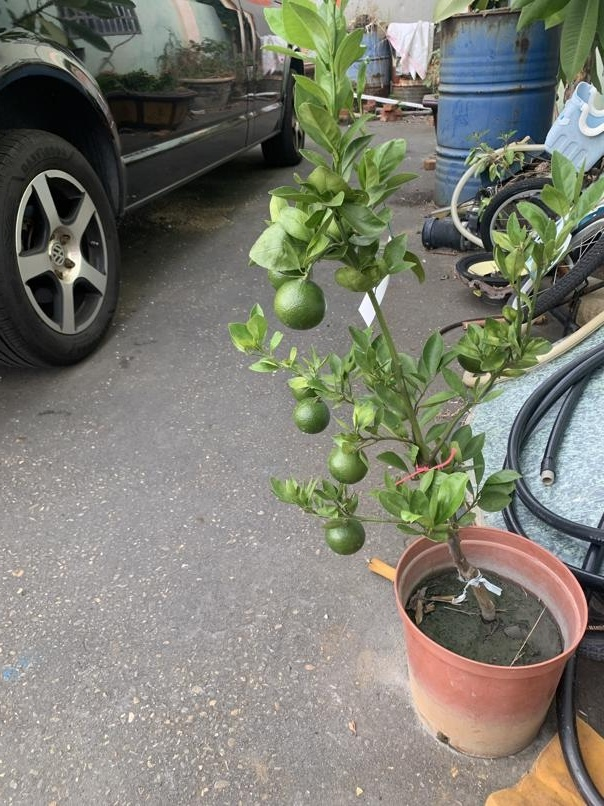Tangerine: (273, 274, 329, 330), (291, 392, 333, 437), (323, 515, 365, 557), (328, 443, 368, 486)
